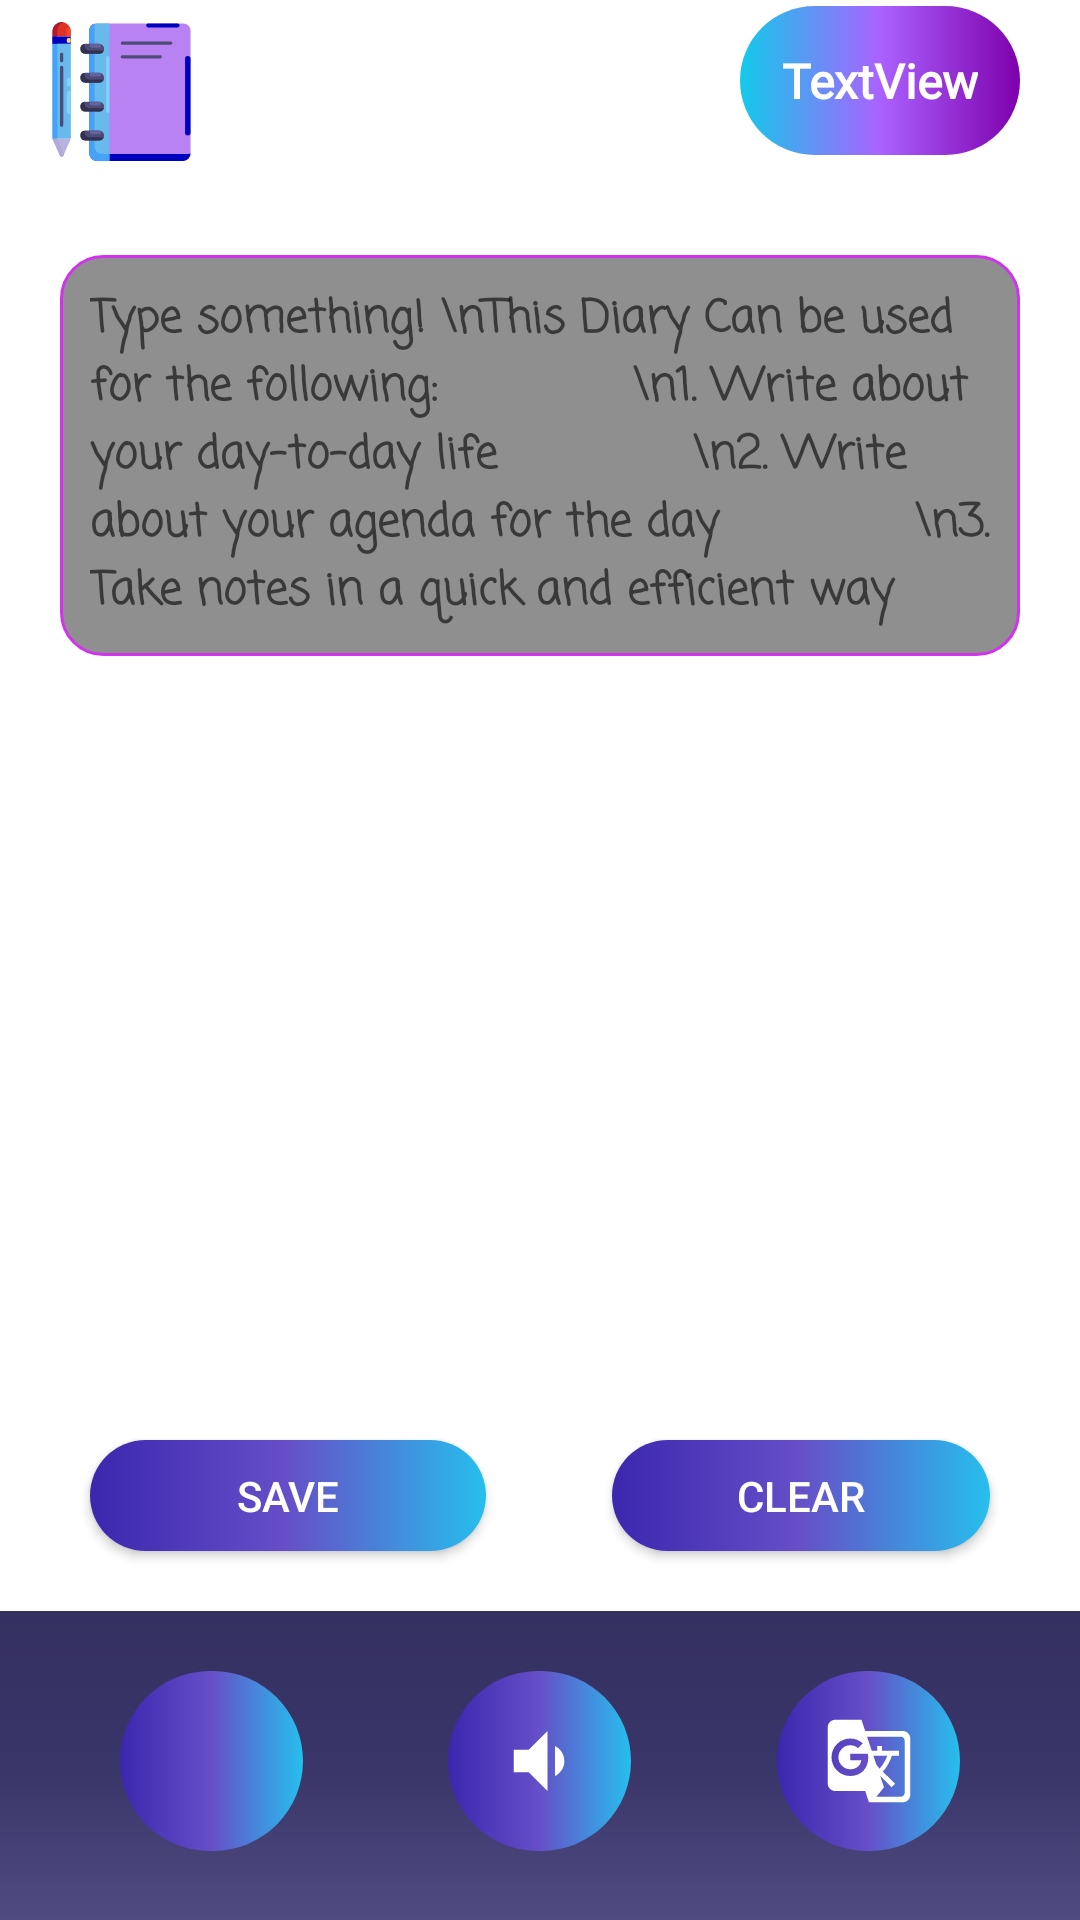

Screen size 1080*1920. Icon name, then its center in pixels as [x,y]:
volume down: [539,1761]
